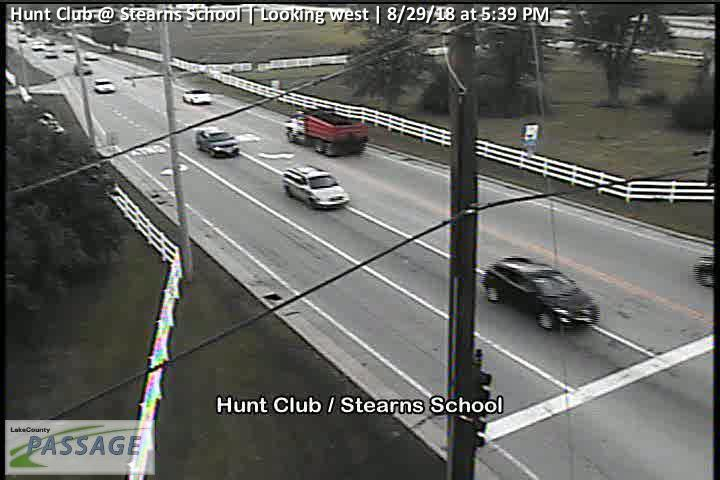Sedan: (485, 256, 600, 332), (281, 166, 350, 210), (195, 127, 240, 159), (183, 89, 212, 104), (92, 80, 116, 94), (73, 62, 92, 74), (84, 51, 99, 61), (43, 49, 57, 58), (62, 43, 75, 51)
Truck: (284, 111, 370, 157)
